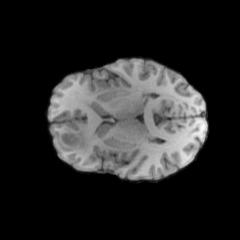glioma: (60, 126, 86, 151)
